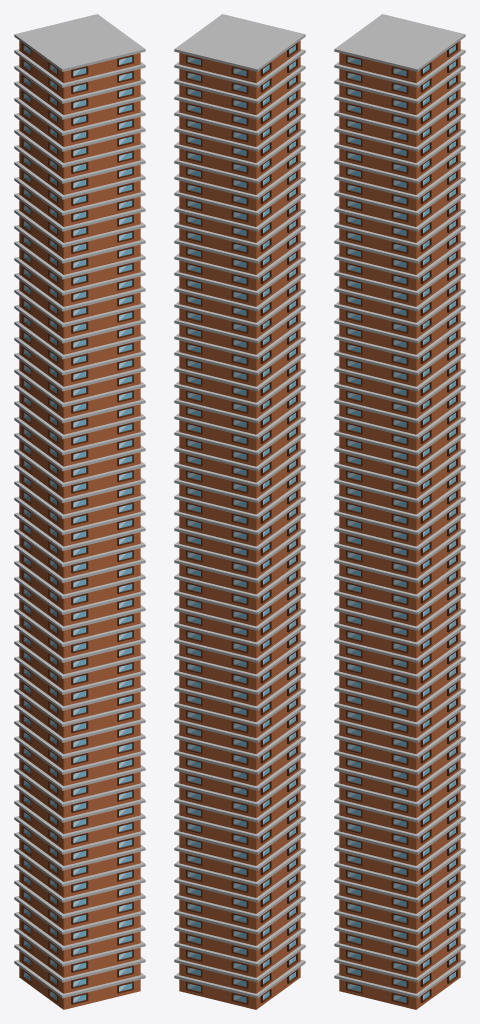
File: VC_Building_50Floors.fbx
3 renders of one model, left to right at view 1: azimuth 30°, elevation 25°; view 2: azimuth 150°, elevation 25°; view 3: azimuth 330°, elevation 25°, orthographic.
Parts seen in each view (by area): view 1: VC_50Floors; view 2: VC_50Floors; view 3: VC_50Floors.
Boxes of the visible parts, x1,y1,x2,y2 form: VC_50Floors: (14,14,145,1009); VC_50Floors: (174,14,305,1009); VC_50Floors: (334,14,465,1009).
Bounding box in the file's own units: 10.89 × 118 × 10.89.
